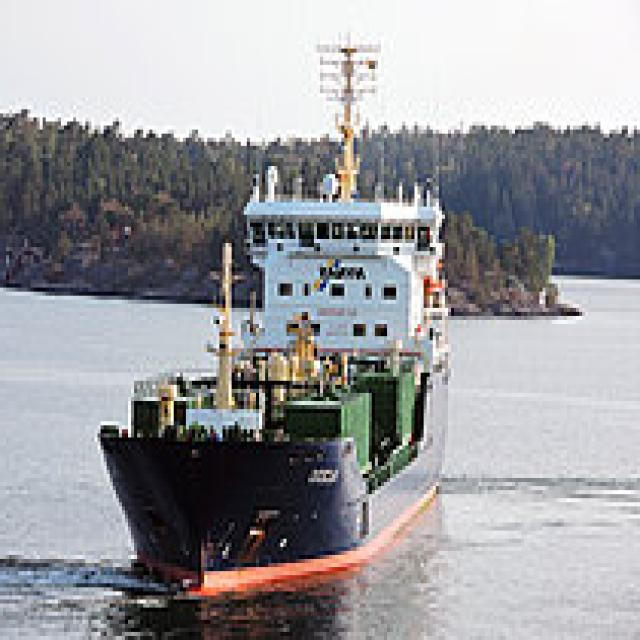Tanker: (95, 28, 460, 600)
